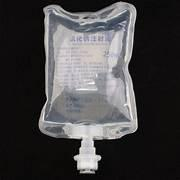Iv_Bottle: (39, 2, 136, 172)
